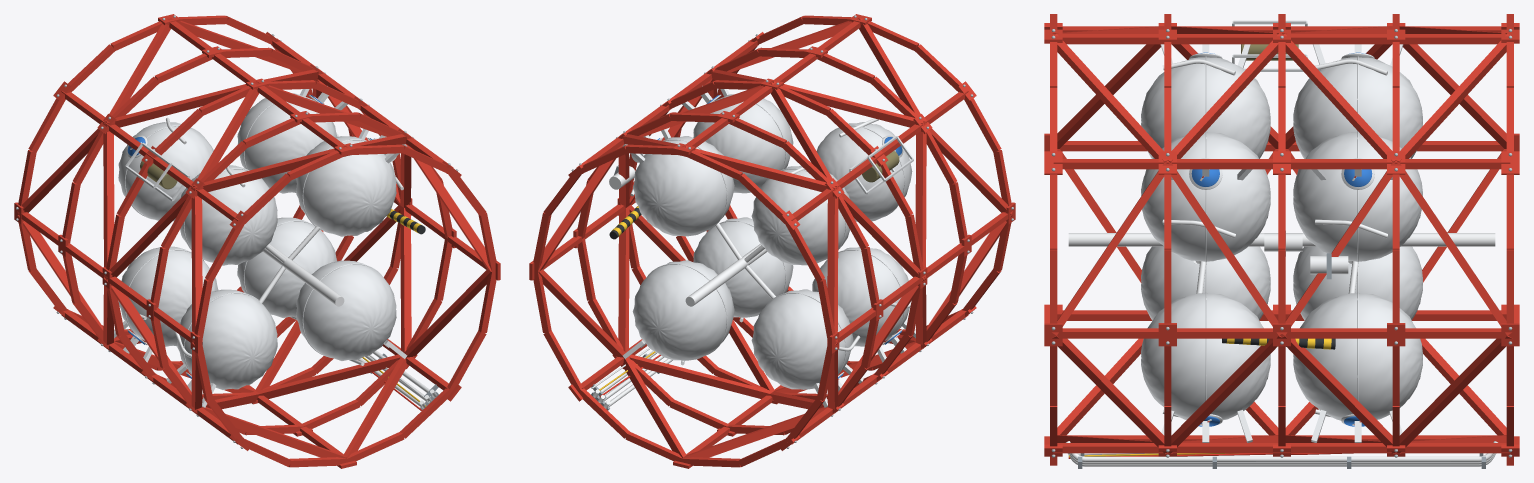
Rendered from tank-6-rcs.glb.
3 views of the same model, side by side, from view 1: azimuth 30°, elevation 25°; view 2: azimuth 150°, elevation 25°; view 3: azimuth 270°, elevation 25° (orthographic). The views are drawn at different scales.
Visible parts, largest first — view 1: rcs_red_box_truss, rcs_sphere_1_3, rcs_sphere_1_0, rcs_sphere_1_2, rcs_sphere_1_1, rcs_sphere_0_3, rcs_sphere_0_2, rcs_sphere_0_1, rcs_sphere_0_0, rcs_silver_support_yokes, manifold_spine, rcs_white_external_pipe_bundle (+2 smaller); view 2: rcs_red_box_truss, rcs_sphere_0_3, rcs_sphere_0_0, rcs_sphere_0_2, rcs_sphere_0_1, rcs_sphere_1_3, rcs_sphere_1_1, rcs_sphere_1_2, rcs_sphere_1_0, manifold_spine, rcs_silver_support_yokes, rcs_white_external_pipe_bundle (+2 smaller); view 3: rcs_red_box_truss, rcs_sphere_1_3, rcs_sphere_0_3, rcs_sphere_1_0, rcs_sphere_0_0, rcs_sphere_0_1, rcs_sphere_1_1, rcs_sphere_1_2, rcs_sphere_0_2, rcs_white_external_pipe_bundle, manifold_spine, rcs_silver_support_yokes (+7 smaller).
Boxes of the visible parts, x1=… form: rcs_red_box_truss: x1=14, y1=14, x2=500, y2=468; rcs_sphere_1_3: x1=296, y1=260, x2=396, y2=360; rcs_sphere_1_0: x1=296, y1=136, x2=396, y2=236; rcs_sphere_1_2: x1=177, y1=289, x2=277, y2=389; rcs_sphere_1_1: x1=180, y1=165, x2=277, y2=265; rcs_sphere_0_3: x1=237, y1=217, x2=336, y2=317; rcs_sphere_0_2: x1=118, y1=246, x2=218, y2=346; rcs_sphere_0_1: x1=118, y1=122, x2=213, y2=221; rcs_sphere_0_0: x1=237, y1=93, x2=337, y2=193; rcs_silver_support_yokes: x1=114, y1=86, x2=407, y2=407; manifold_spine: x1=263, y1=243, x2=344, y2=306; rcs_white_external_pipe_bundle: x1=358, y1=350, x2=436, y2=408; rcs_red_box_truss: x1=529, y1=14, x2=1015, y2=468; rcs_sphere_0_3: x1=632, y1=260, x2=734, y2=360; rcs_sphere_0_0: x1=633, y1=136, x2=734, y2=236; rcs_sphere_0_2: x1=751, y1=289, x2=853, y2=389; rcs_sphere_0_1: x1=751, y1=165, x2=849, y2=265; rcs_sphere_1_3: x1=693, y1=217, x2=793, y2=317; rcs_sphere_1_1: x1=816, y1=122, x2=912, y2=221; rcs_sphere_1_2: x1=812, y1=247, x2=909, y2=346; rcs_sphere_1_0: x1=693, y1=94, x2=793, y2=193; manifold_spine: x1=685, y1=243, x2=767, y2=306; rcs_silver_support_yokes: x1=622, y1=86, x2=915, y2=407; rcs_white_external_pipe_bundle: x1=593, y1=351, x2=672, y2=408; rcs_red_box_truss: x1=1044, y1=14, x2=1519, y2=465; rcs_sphere_1_3: x1=1141, y1=293, x2=1270, y2=420; rcs_sphere_0_3: x1=1293, y1=293, x2=1422, y2=420; rcs_sphere_1_0: x1=1141, y1=132, x2=1270, y2=261; rcs_sphere_0_0: x1=1293, y1=132, x2=1422, y2=261; rcs_sphere_0_1: x1=1293, y1=57, x2=1422, y2=158; rcs_sphere_1_1: x1=1141, y1=57, x2=1270, y2=158; rcs_sphere_1_2: x1=1141, y1=246, x2=1270, y2=320; rcs_sphere_0_2: x1=1293, y1=246, x2=1422, y2=320; rcs_white_external_pipe_bundle: x1=1066, y1=441, x2=1497, y2=466; manifold_spine: x1=1068, y1=233, x2=1495, y2=246; rcs_silver_support_yokes: x1=1160, y1=44, x2=1403, y2=442.
Bounding box in the file's own units: 6.01 × 6.01 × 6.24.
